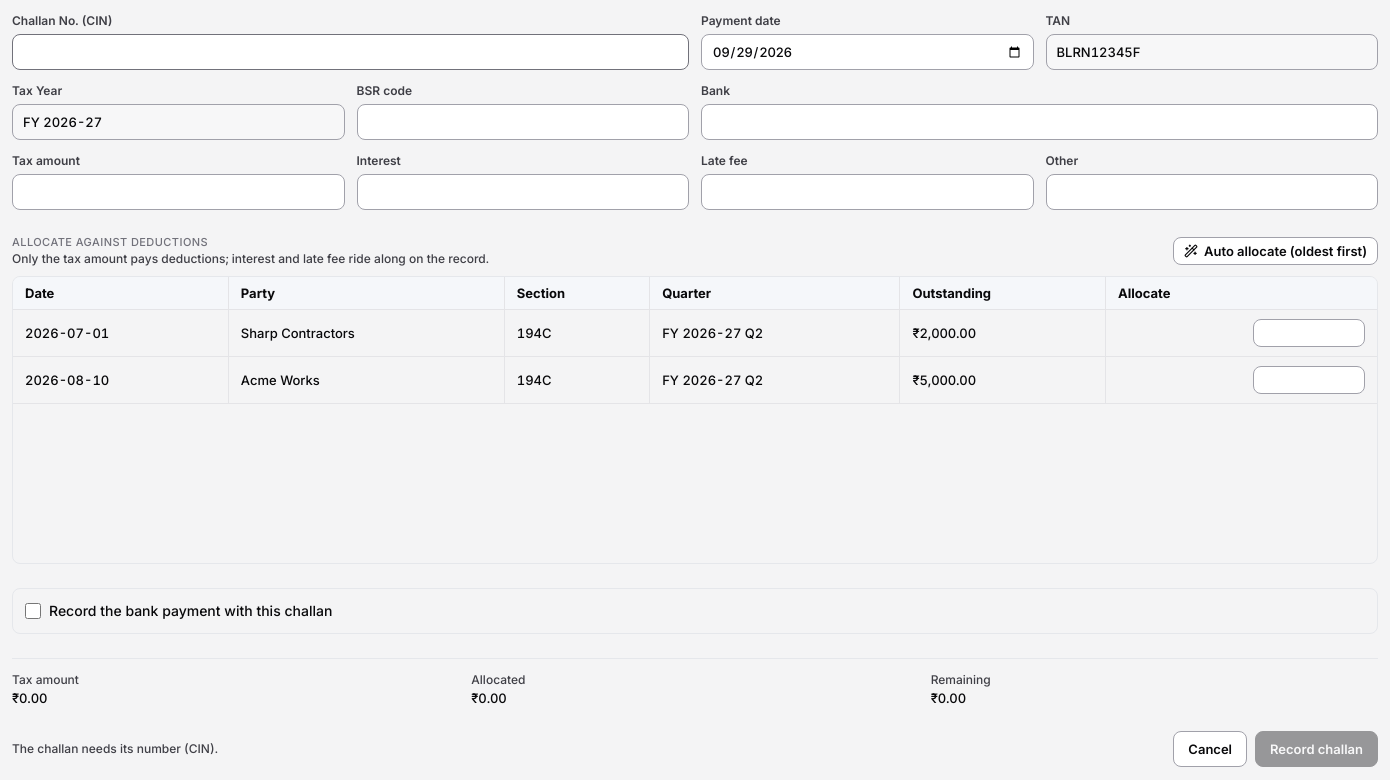
Test: what the form offers to allocate › auto-allocates oldest first and stops when the tax runs out
Type "CHL-2026-091" into the field labelled "Challan No. (CIN)" at (350,52), box [12,34,689,70]
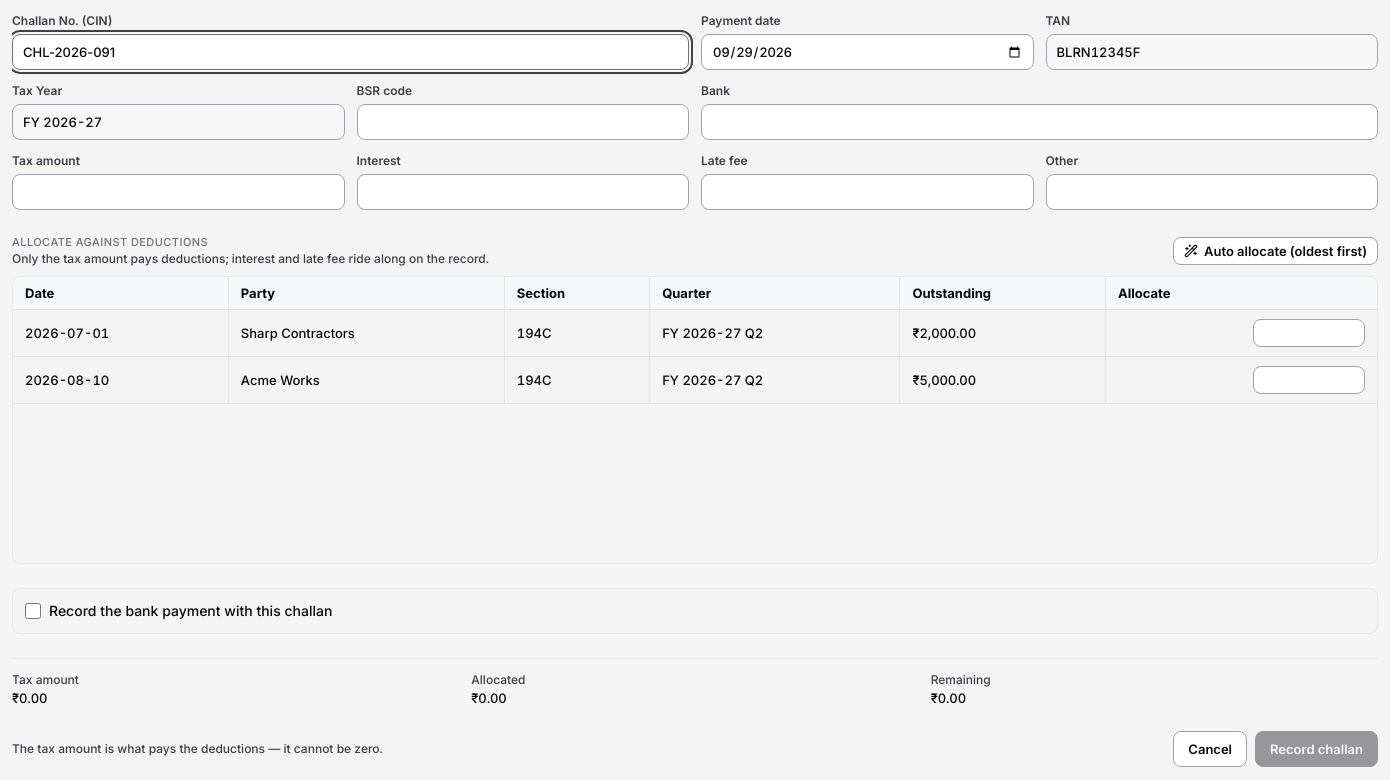
Type "3000" into the number field labelled "Tax amount" at (178,192), box [12,174,344,210]
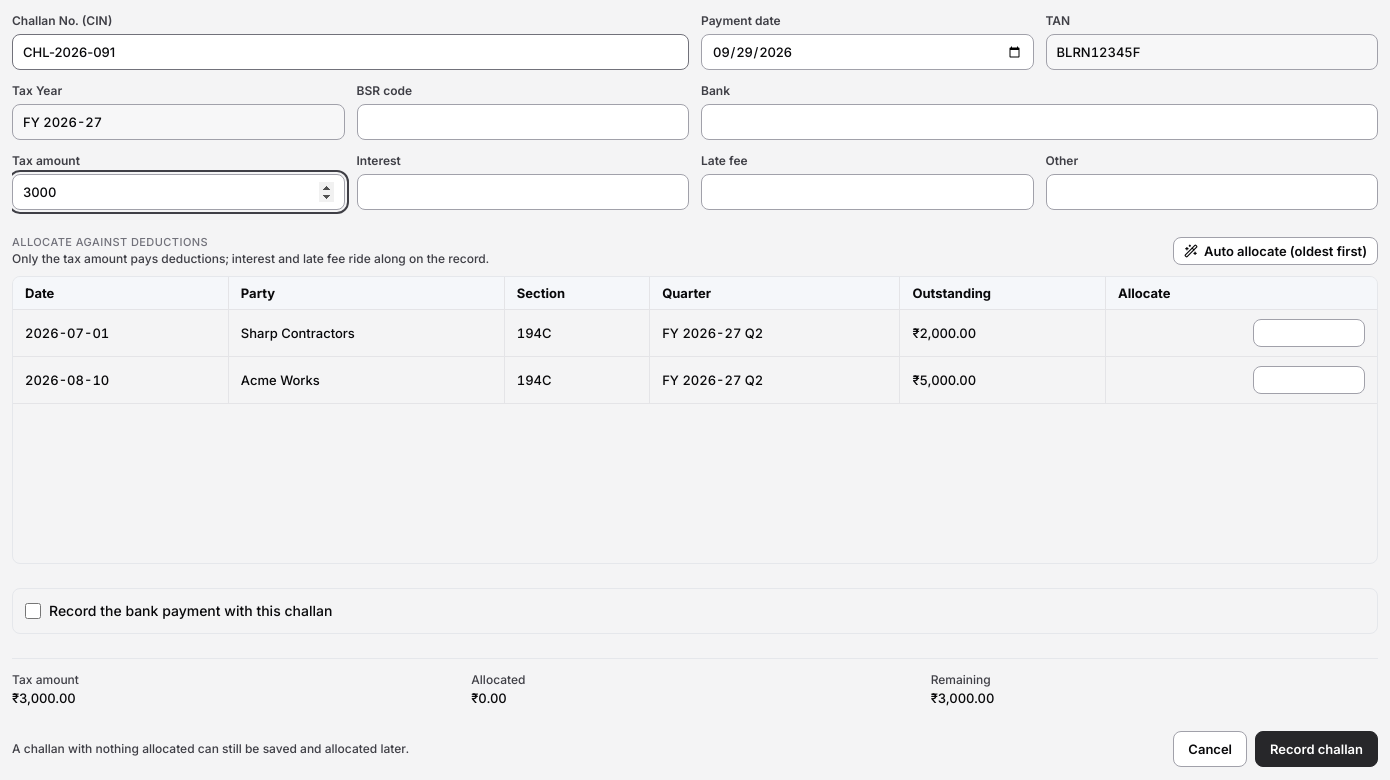
Click the button "Auto allocate (oldest first)" at (1276,251), box [1173,237,1378,265]
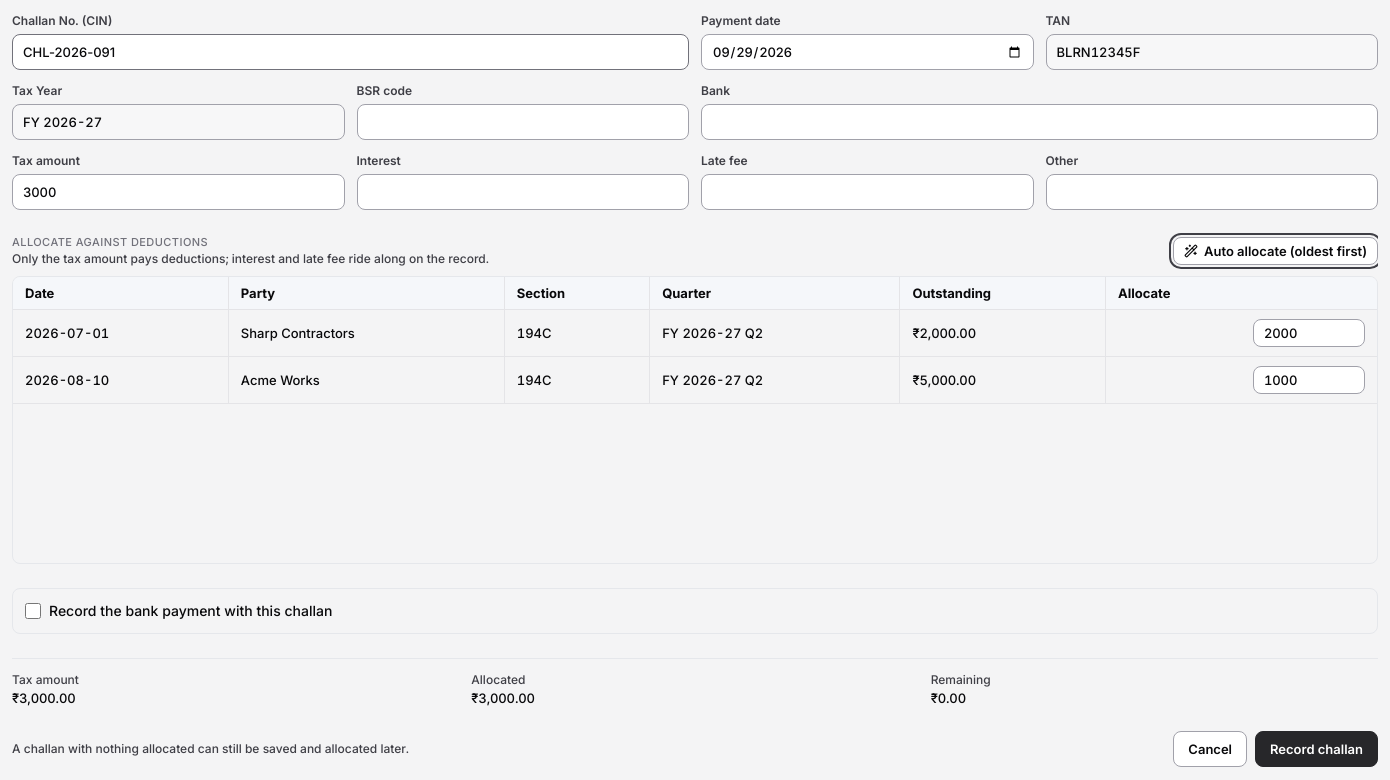
Now the number field named "Allocate to Sharp Contractors" holds "2000", box [1253,319,1365,347]
Now the number field named "Allocate to Acme Works" holds "1000", box [1253,366,1365,394]
